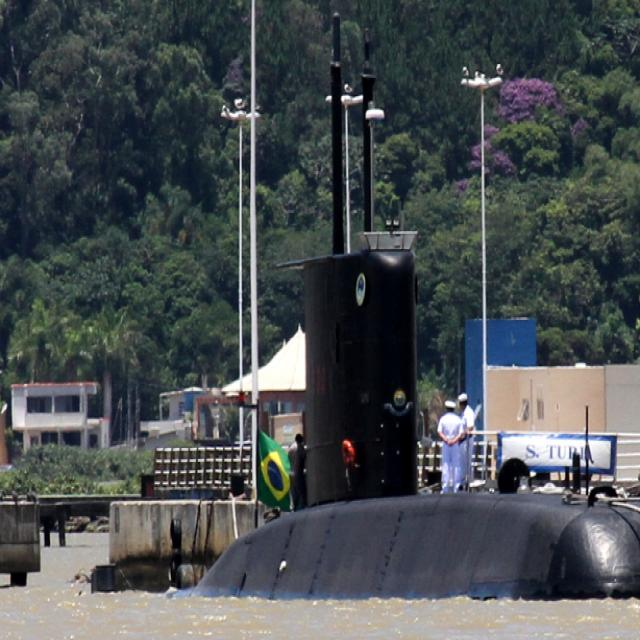submarine: (204, 14, 640, 590)
